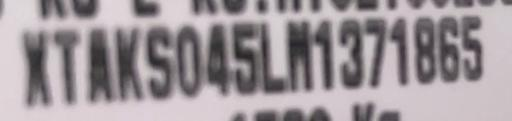letter: (83, 25, 117, 104), (22, 28, 54, 109), (112, 26, 146, 101), (256, 19, 288, 94), (228, 17, 258, 96), (52, 26, 82, 105), (144, 24, 174, 101), (204, 20, 232, 99), (175, 24, 203, 101), (312, 17, 340, 92), (286, 18, 314, 93), (337, 18, 365, 93), (457, 14, 485, 83), (412, 13, 438, 86), (436, 13, 462, 82), (364, 16, 388, 89), (388, 13, 410, 88)
